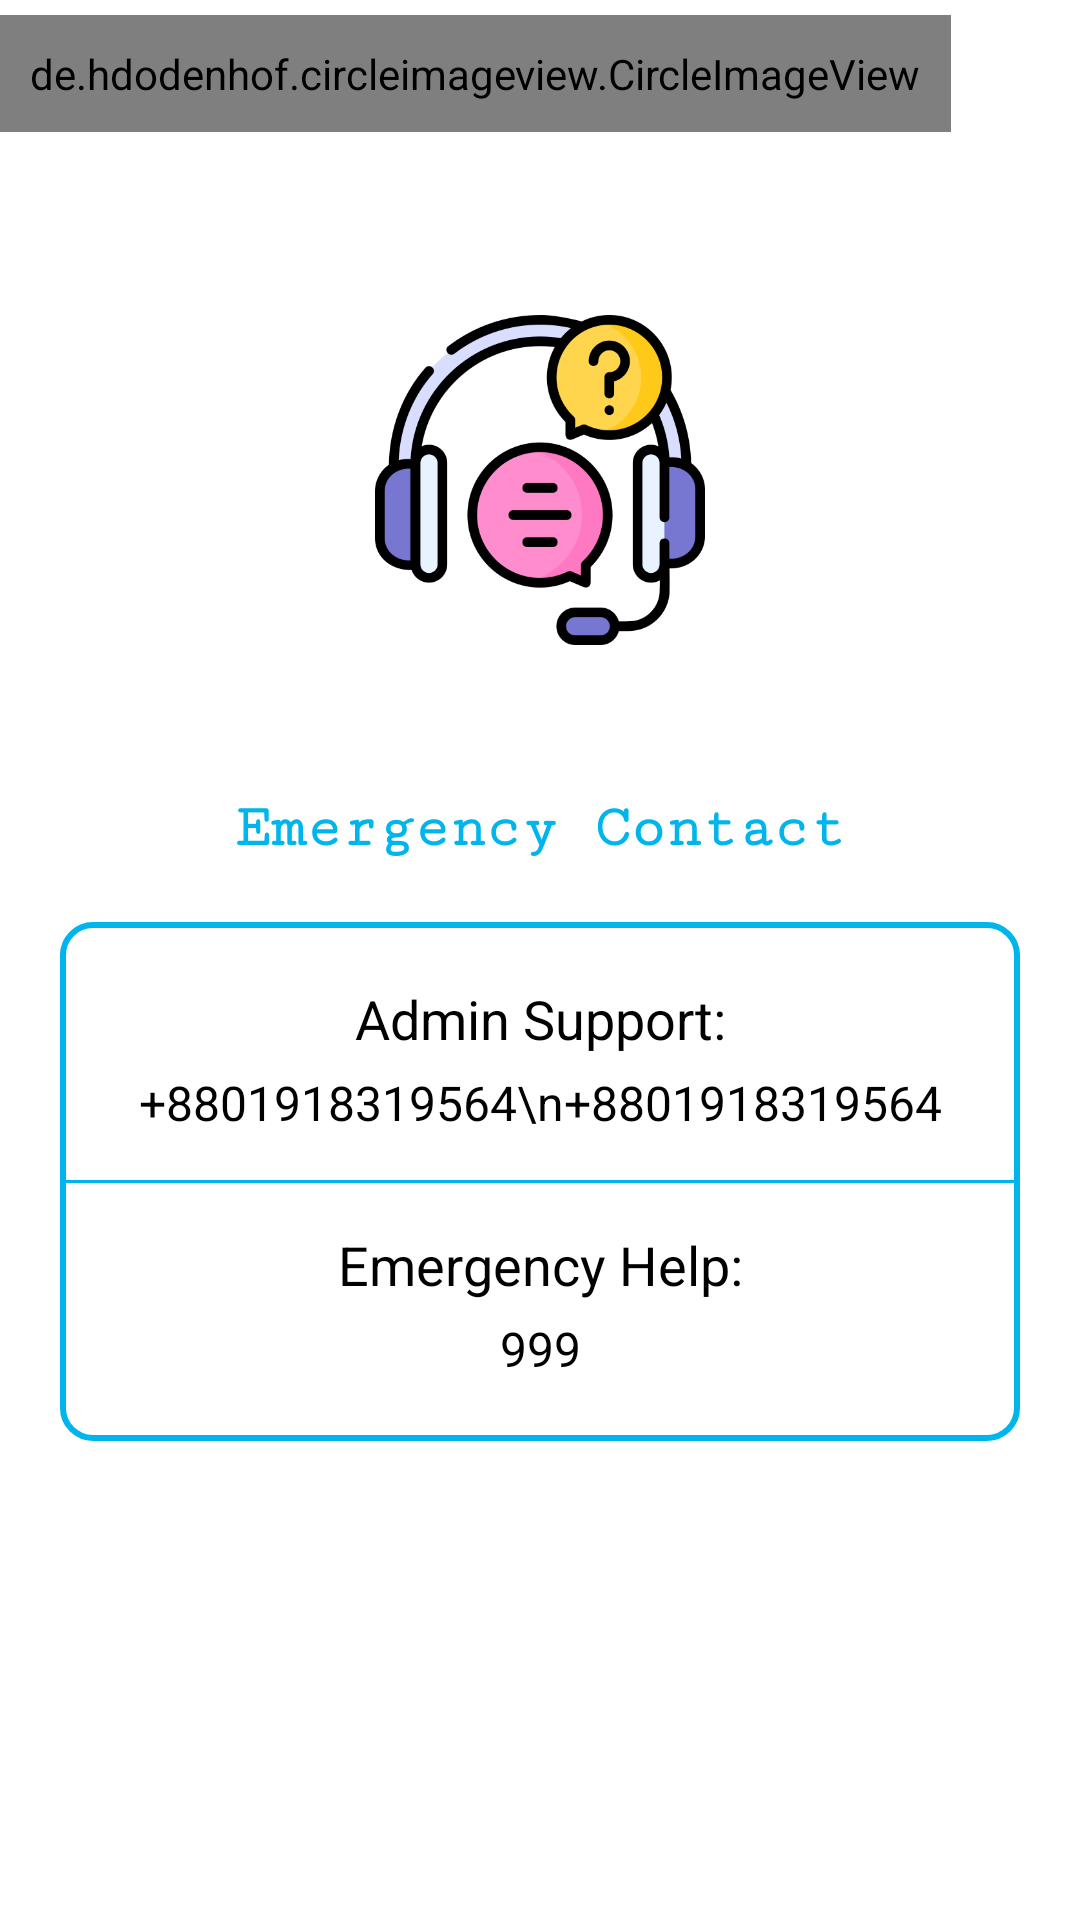

Screen size 1080px×1920px. Icon name, then its box in pixels as detection(x1, y1, x2, y2):
support: detection(375, 315, 705, 645)
